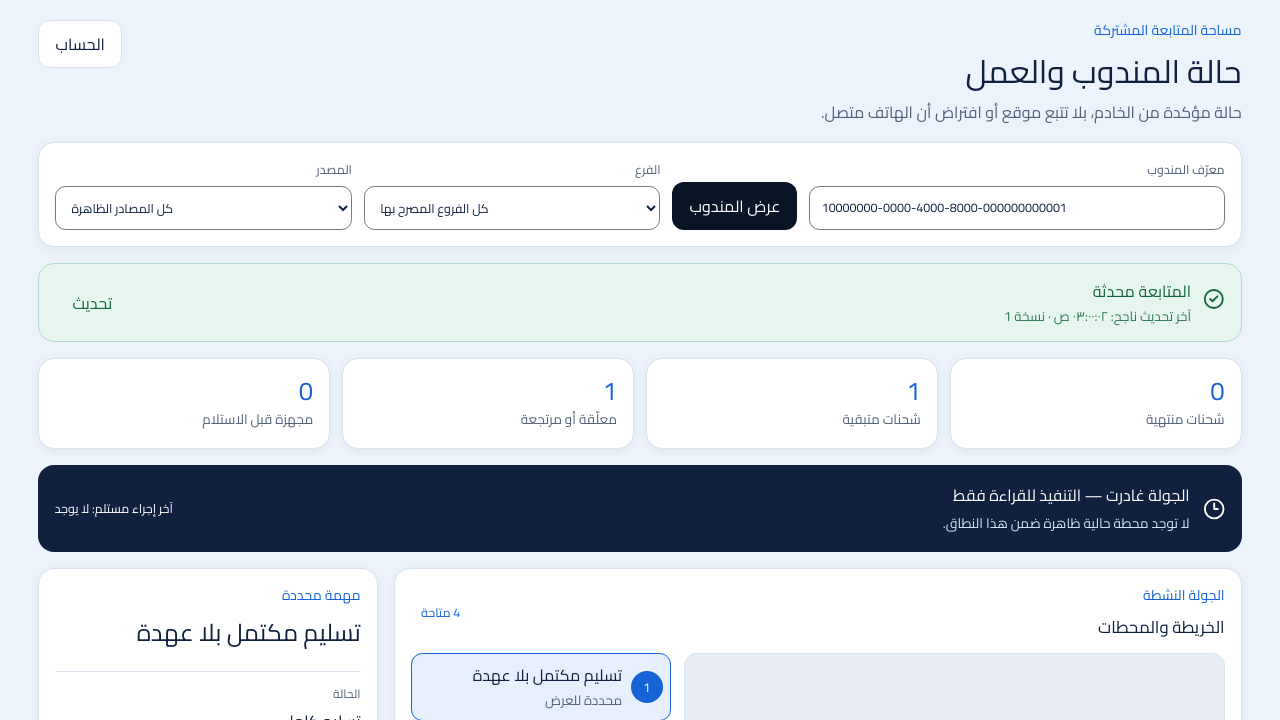
Test: keeps completed history visible while source custody counts only actual pieces and unique shipments
Expected: the 2nd text "تسليم مكتمل بلا عهدة" is shown, [473,661,622,689]
Select "10000000-0000-4000-8000-000000000007" in the dropdown labelled "المصدر": (204, 208) [55,186,352,230]
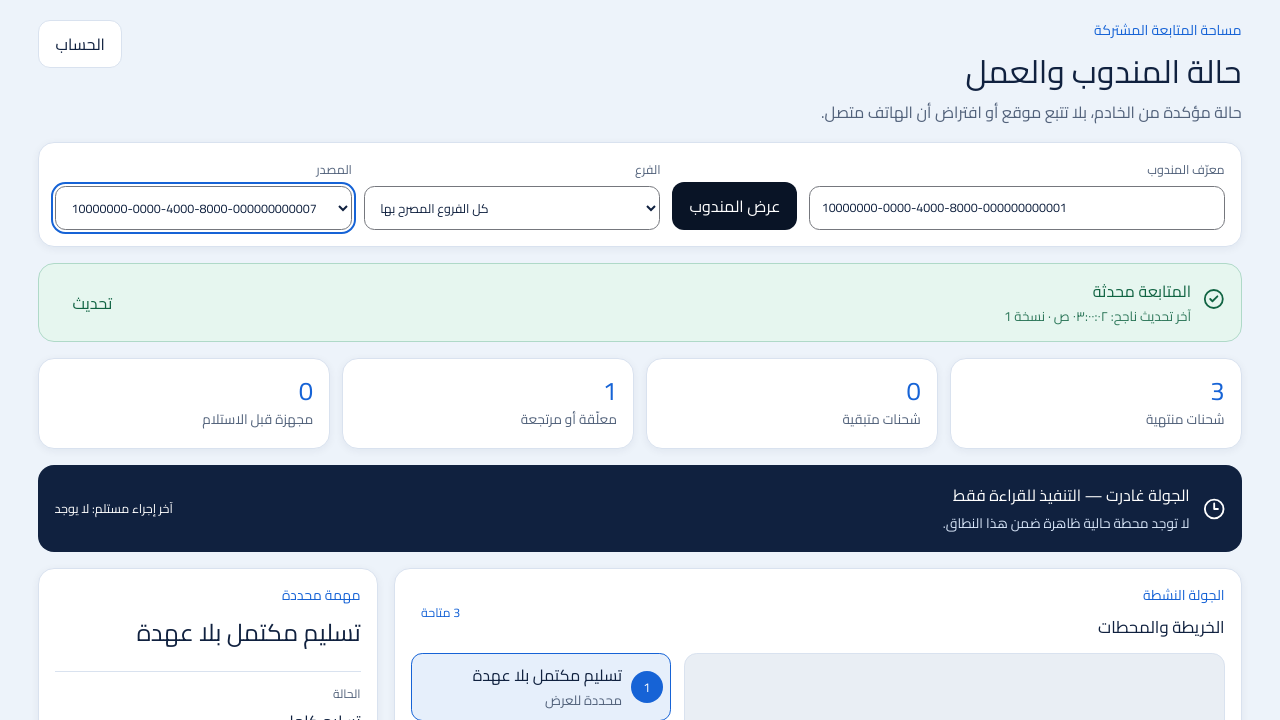
Expected: the 2nd text "تسليم مكتمل بلا عهدة" is shown, [473,661,622,689]
Select "10000000-0000-4000-8000-000000000010" in the dropdown labelled "المصدر": (204, 208) [55,186,352,230]
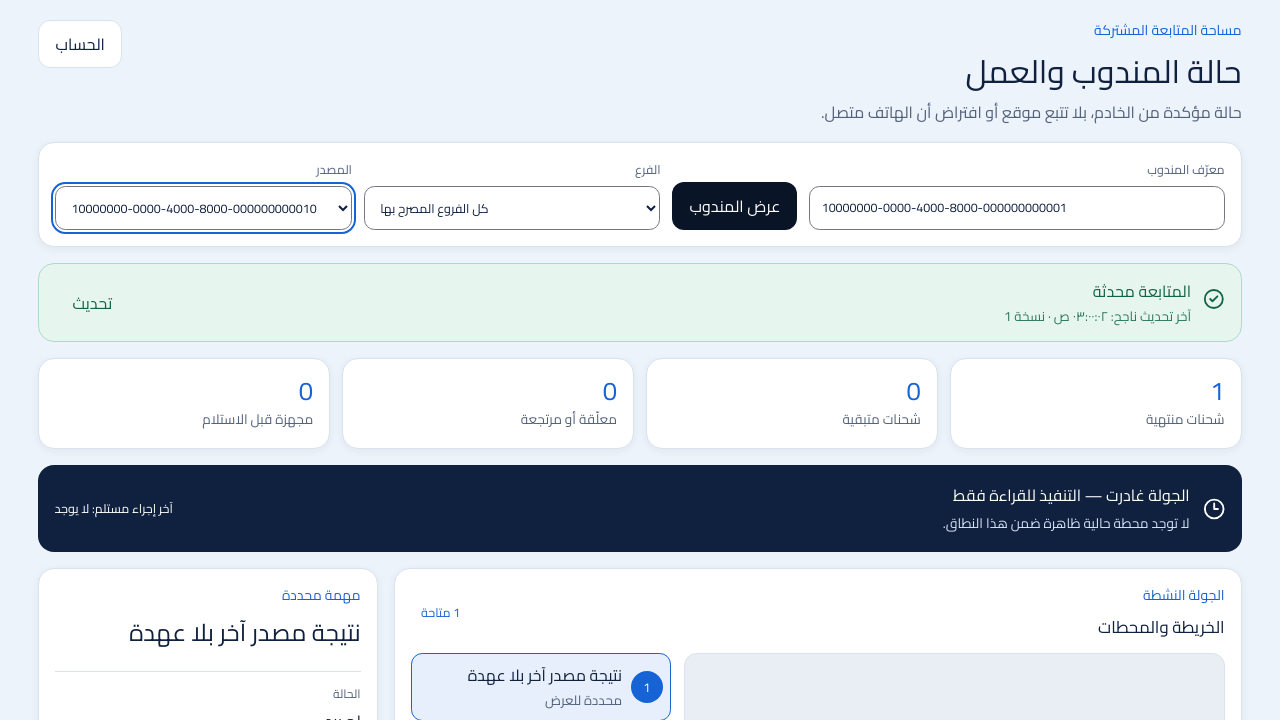
Expected: the 2nd text "نتيجة مصدر آخر بلا عهدة" is shown, [468,661,622,689]
